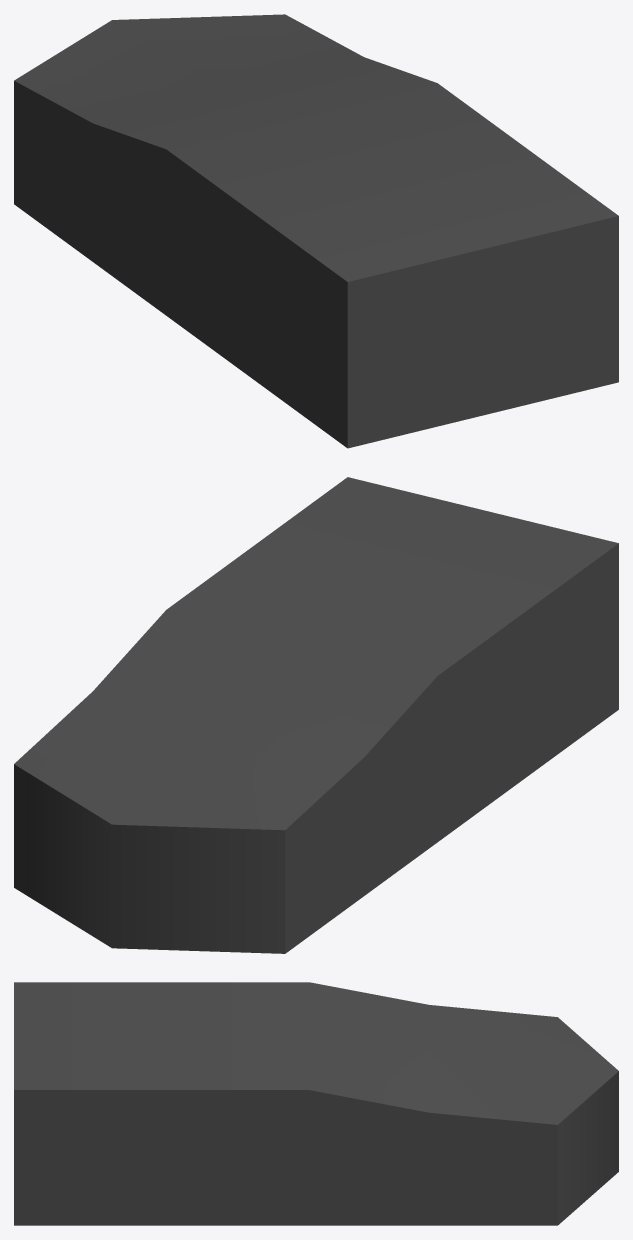
Rendered from Thor_Foot 1.FBX.
The picture shows the model from 3 angles, top to bottom: view 1: azimuth 30°, elevation 25°; view 2: azimuth 150°, elevation 25°; view 3: azimuth 270°, elevation 25°; orthographic projection. The views are drawn at different scales.
Parts seen in each view (by area): view 1: Foot; view 2: Foot; view 3: Foot.
Boxes of the visible parts, left/top/right/bottom form: Foot: left=14, top=14, right=618, bottom=448; Foot: left=14, top=477, right=618, bottom=953; Foot: left=14, top=982, right=618, bottom=1225.
Size of the model in its own units: 3.62 by 8.59 by 2.12.
1 material, 1 textured.
